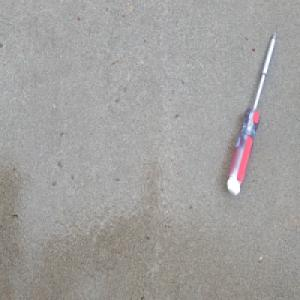Screwdriver: (225, 28, 278, 199)
